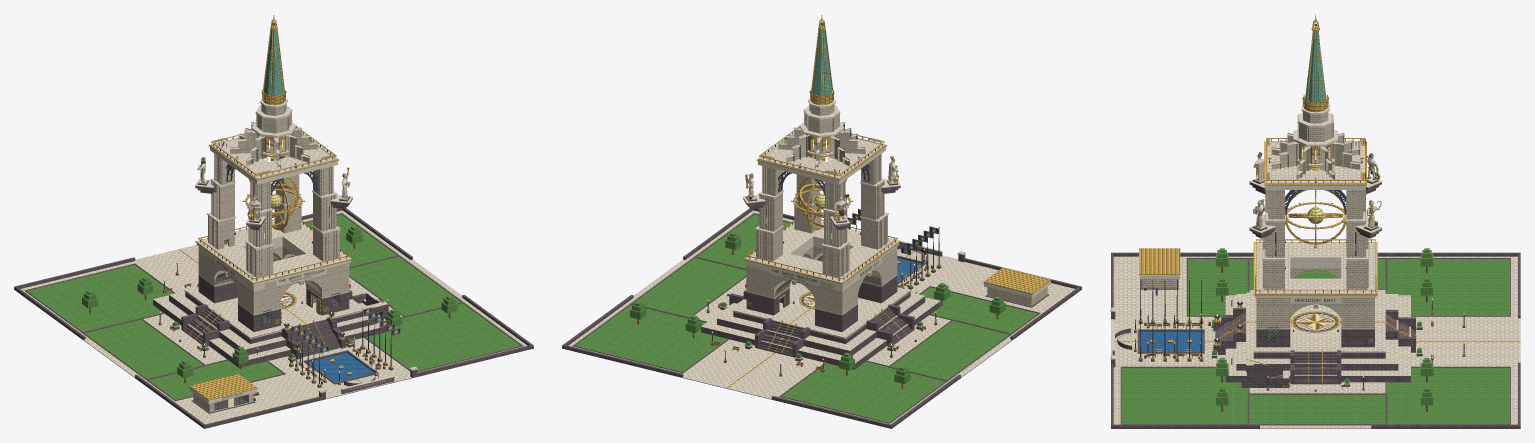
Rendered from great-meridian-2000.glb.
The picture shows the model from 3 angles, left to right: view 1: azimuth 30°, elevation 25°; view 2: azimuth 150°, elevation 25°; view 3: azimuth 270°, elevation 25°; orthographic projection. The views are drawn at different scales.
Parts seen in each view (by area): view 1: lot_ground, structure, floor_plaza, floor_rotunda_plaza, floor_cornice_gallery, floor_observation_deck, floor_stairs_pz, armillary_outer; view 2: structure, lot_ground, floor_plaza, floor_rotunda_plaza, floor_cornice_gallery, floor_observation_deck, floor_stairs_mz, armillary_outer; view 3: lot_ground, structure, floor_plaza, floor_rotunda_plaza, floor_cornice_gallery, floor_observation_deck, floor_stairs_px, armillary_outer, floor_stairs_pz.
Boxes of the visible parts, <box> form: lot_ground: <box>14,208,533,428</box>; structure: <box>153,15,390,367</box>; floor_plaza: <box>20,210,527,424</box>; floor_rotunda_plaza: <box>185,281,362,337</box>; floor_cornice_gallery: <box>198,222,349,281</box>; floor_observation_deck: <box>214,135,334,177</box>; floor_stairs_pz: <box>290,319,339,355</box>; armillary_outer: <box>243,156,304,230</box>; structure: <box>701,15,940,369</box>; lot_ground: <box>562,208,1081,428</box>; floor_plaza: <box>568,210,1075,424</box>; floor_rotunda_plaza: <box>733,281,910,337</box>; floor_cornice_gallery: <box>746,222,897,281</box>; floor_observation_deck: <box>761,135,881,177</box>; floor_stairs_mz: <box>758,320,804,355</box>; armillary_outer: <box>791,156,852,230</box>; lot_ground: <box>1110,248,1520,428</box>; structure: <box>1213,14,1416,387</box>; floor_plaza: <box>1111,256,1520,428</box>; floor_rotunda_plaza: <box>1246,292,1385,351</box>; floor_cornice_gallery: <box>1256,242,1375,293</box>; floor_observation_deck: <box>1267,142,1364,182</box>; floor_stairs_px: <box>1294,352,1336,382</box>; armillary_outer: <box>1285,166,1346,245</box>; floor_stairs_pz: <box>1215,311,1245,344</box>.
Size of what is drawn, in the model's own units: 120 by 107 by 120.
12 materials, 12 textured.
